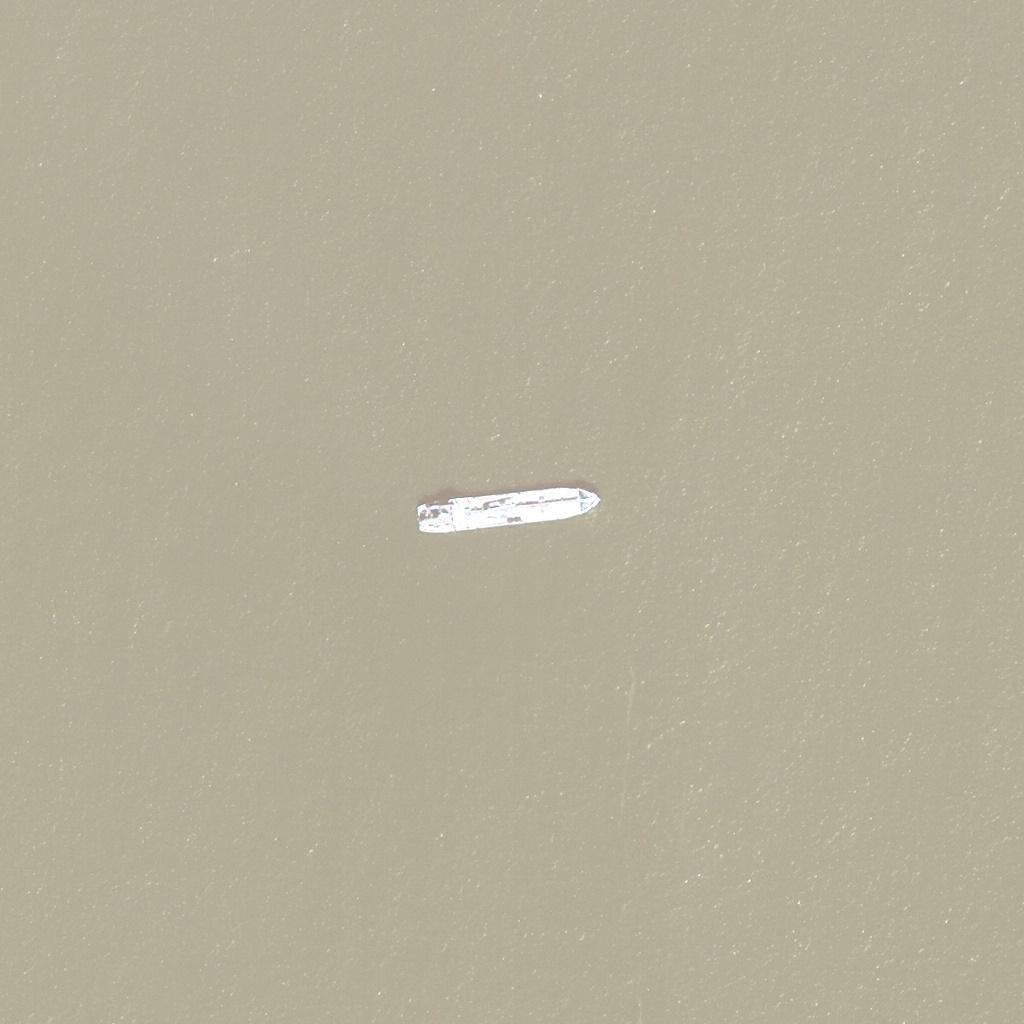ship: (411, 488, 605, 540)
